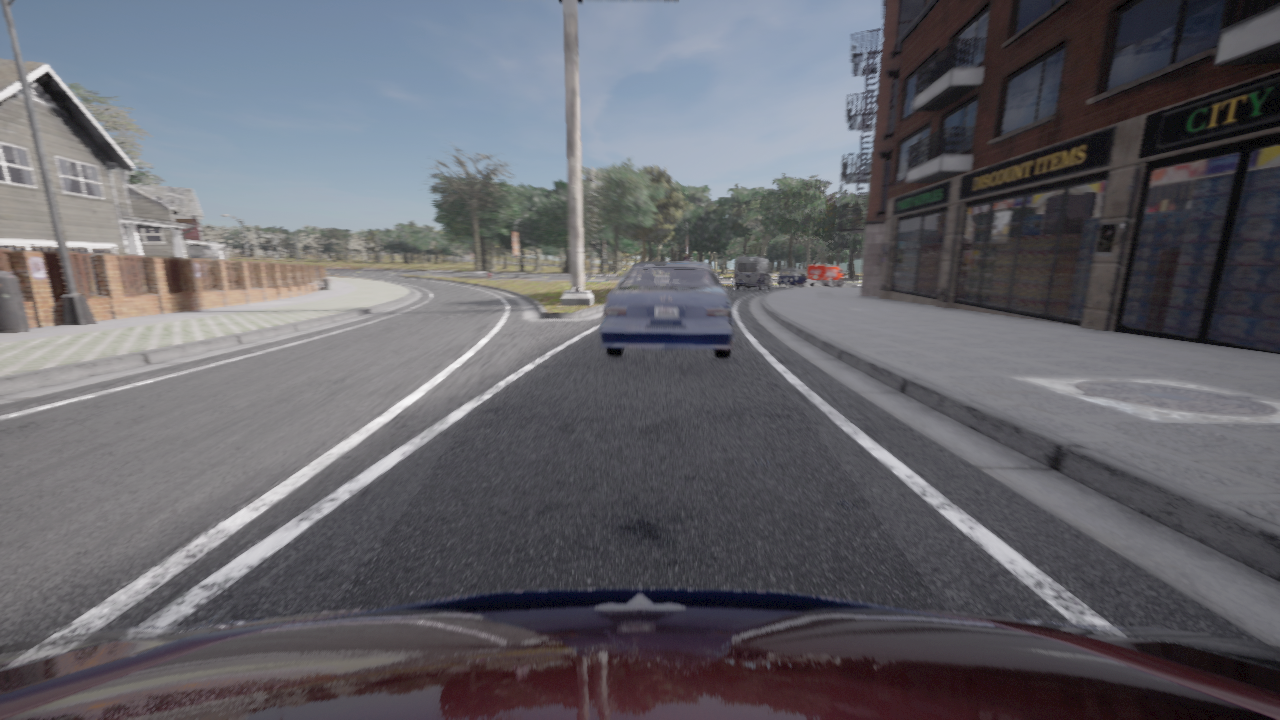cyclist: (0, 588, 1279, 719), (599, 261, 734, 358), (734, 256, 772, 290), (806, 265, 845, 286), (778, 268, 807, 287), (715, 274, 718, 276)
